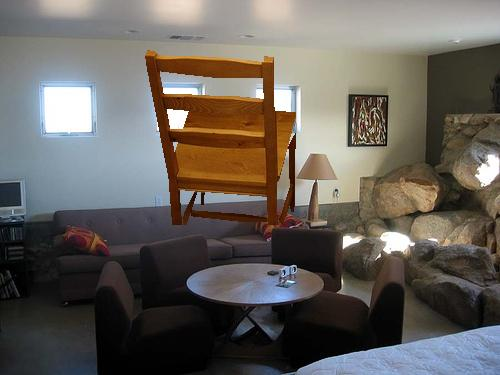tampered: (146, 51, 296, 225)
